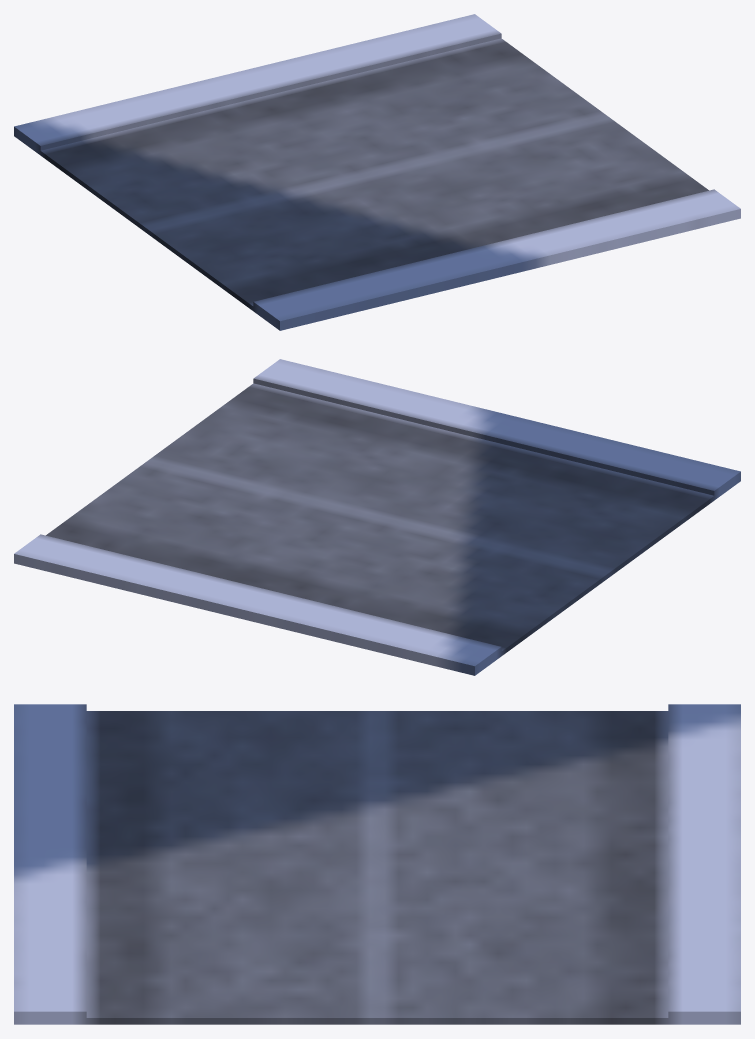
File: road-15.obj
3 renders of one model, top to bottom at view 1: azimuth 30°, elevation 25°; view 2: azimuth 150°, elevation 25°; view 3: azimuth 270°, elevation 25°, orthographic. The views are drawn at different scales.
Bounding box in the file's own units: 1 × 0.02 × 1.
Materials: 1 (1 with a texture image).
